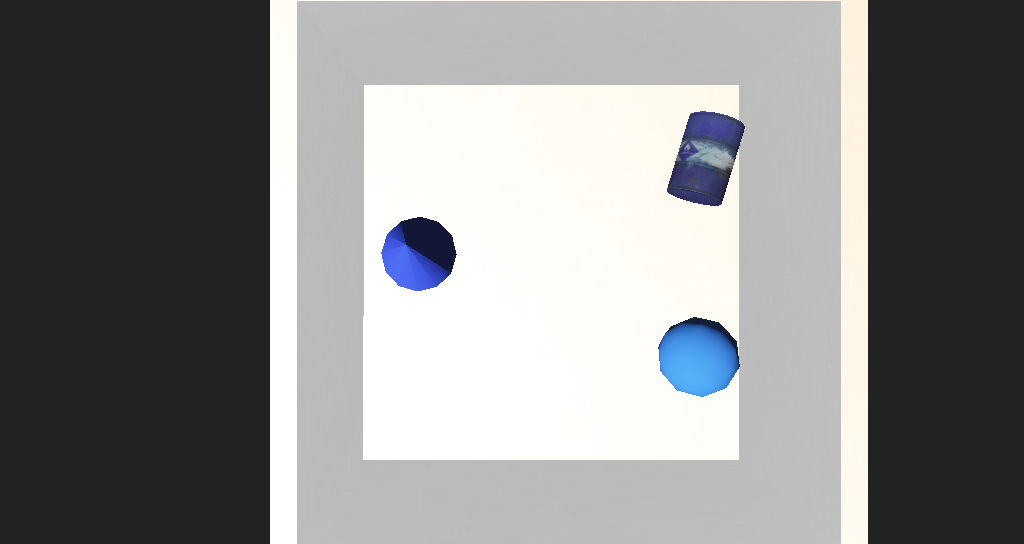cone: (593, 179, 660, 231)
cylinder: (357, 229, 424, 277)
sphere: (586, 291, 653, 339)
